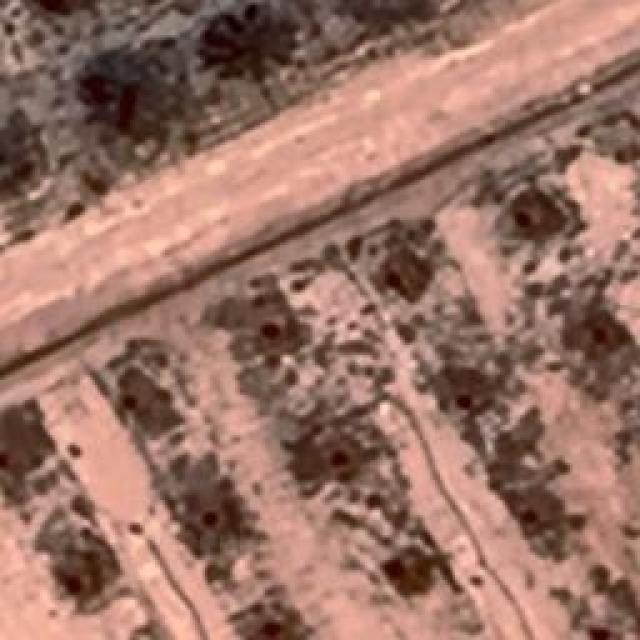PalmTree: (212, 10, 290, 78), (19, 85, 73, 155), (73, 80, 129, 92)
